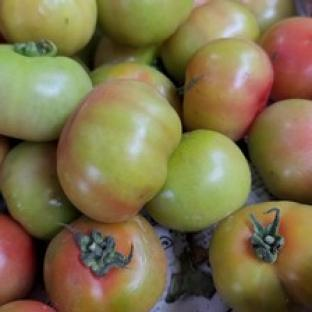Tomato: (58, 80, 181, 222), (45, 215, 167, 311), (209, 201, 311, 311), (147, 130, 250, 232), (183, 38, 274, 140), (0, 41, 91, 142), (0, 141, 79, 239), (247, 99, 311, 203), (91, 60, 182, 116), (260, 17, 311, 101), (0, 212, 37, 305), (94, 35, 158, 68), (0, 300, 55, 311), (0, 134, 11, 165)
